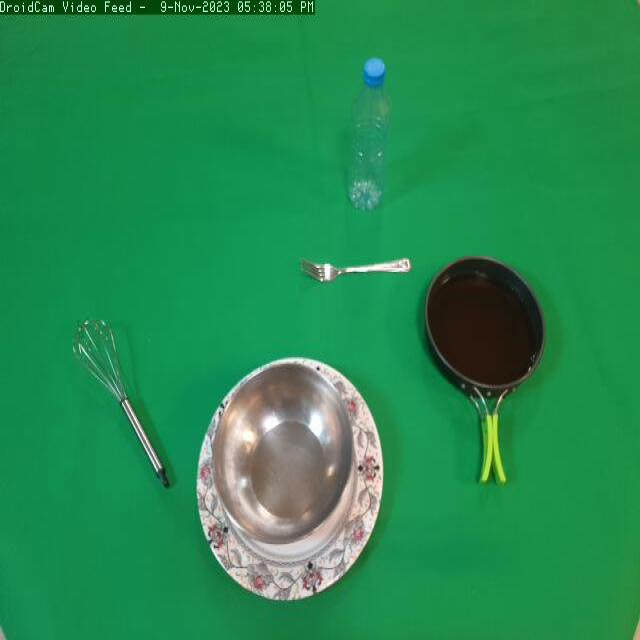bottle: (336, 45, 398, 236)
bowl: (202, 352, 364, 551)
fork: (296, 245, 417, 299)
pan: (423, 252, 558, 492)
plate: (190, 352, 392, 609)
whisk: (68, 311, 183, 499)
